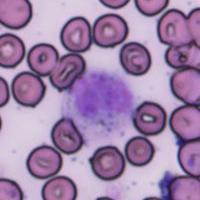N: (69, 67, 137, 127)
